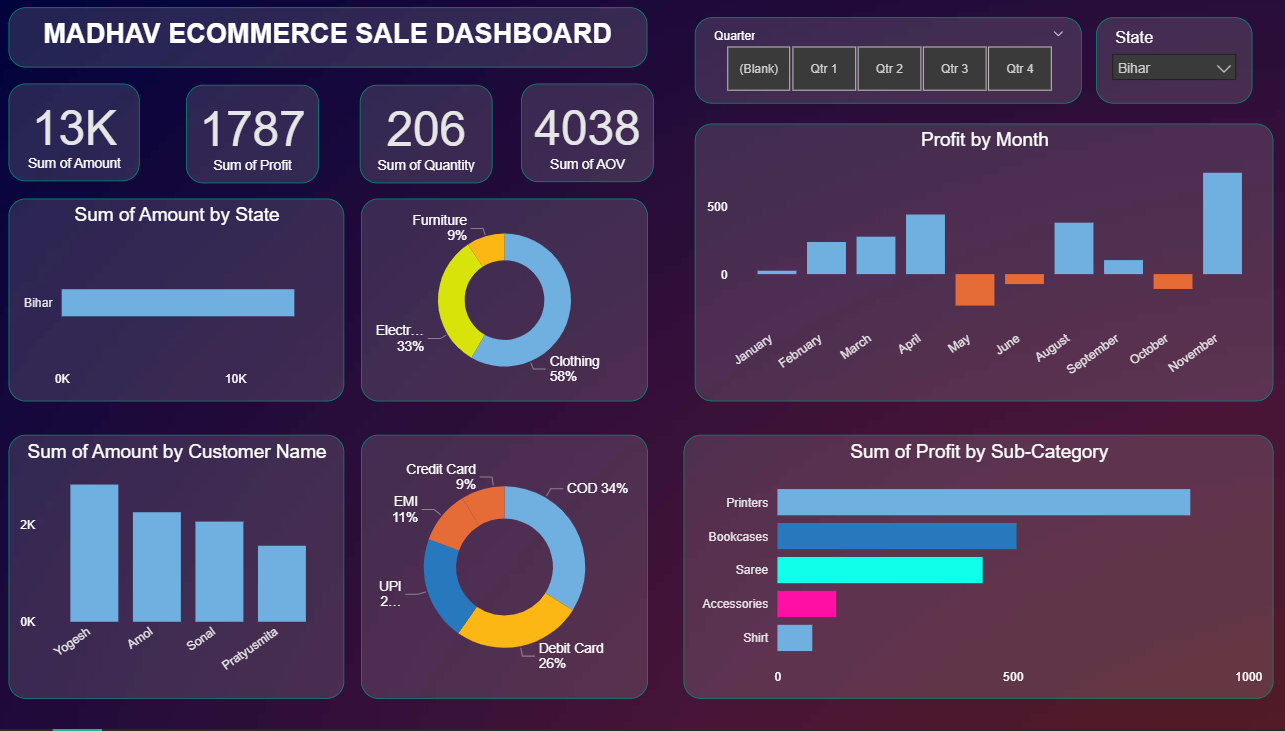

The dashboard page shown, as its layout file describes it:
{"tool":"powerbi","page":{"name":"Page 1","canvas":[1280,720],"ordinal":0},"visuals":[{"type":"textbox","box":[12.3,11,627.1,59],"z":0},{"type":"columnChart","title":"Profit by Month","fields":{"Y":["Details.Profit"],"Category":["Orders.Order Date.Variation.Date Hierarchy.Month"]},"box":[686.1,124.9,568.1,273.1],"z":1000},{"type":"barChart","fields":{"Category":["Details.Sub-Category"],"Y":["Details.Profit"]},"box":[675.1,430.9,579.1,259.3],"z":2000},{"type":"donutChart","fields":{"Category":["Details.Category"],"Y":["Details.Quantity"]},"box":[358.1,199,281.3,199],"z":3000},{"type":"donutChart","fields":{"Y":["Details.Quantity"],"Category":["Details.PaymentMode"]},"box":[358.1,430.9,281.3,259.3],"z":4000},{"type":"card","fields":{"Values":["Details.Amount"]},"box":[12.3,86.4,129,96.1],"z":5000},{"type":"card","fields":{"Values":["Details.Profit"]},"box":[186.5,87.1,130.1,96.9],"z":6000},{"type":"card","fields":{"Values":["Details.Quantity"]},"box":[357.1,87.1,130.1,96.9],"z":7000},{"type":"card","fields":{"Values":["Details.AOV"]},"box":[515.3,85.9,130.1,96.9],"z":8000},{"type":"barChart","fields":{"Category":["Orders.State"],"Y":["Details.Amount"]},"box":[12.3,199,329.3,199],"z":9000},{"type":"columnChart","fields":{"Category":["Orders.Customer Name"],"Y":["Details.Amount"]},"box":[12.3,430.9,329.3,259.3],"z":10000},{"type":"slicer","fields":{"Values":["Orders.Order Date.Variation.Date Hierarchy.Quarter"]},"box":[686.1,20.6,380.1,85.1],"z":10001},{"type":"slicer","fields":{"Values":["Orders.State"]},"box":[1079.9,20.6,153.7,85.1],"z":10002}]}

Visuals, with their boxes in screenshot pixels (x1, y1, x2, y2), scaled from the page's 1280x720 canvas onto the 1285x731 screenshot:
textbox: box=[12, 11, 642, 71]
"Profit by Month" columnChart: box=[689, 127, 1259, 404]
barChart - Details.Sub-Category x Details.Profit: box=[678, 437, 1259, 701]
donutChart - Details.Category x Details.Quantity: box=[359, 202, 642, 404]
donutChart - Details.Quantity x Details.PaymentMode: box=[359, 437, 642, 701]
card - Details.Amount: box=[12, 88, 142, 185]
card - Details.Profit: box=[187, 88, 318, 187]
card - Details.Quantity: box=[358, 88, 489, 187]
card - Details.AOV: box=[517, 87, 648, 186]
barChart - Orders.State x Details.Amount: box=[12, 202, 343, 404]
columnChart - Orders.Customer Name x Details.Amount: box=[12, 437, 343, 701]
slicer - Orders.Order Date.Variation.Date Hierarchy.Quarter: box=[689, 21, 1070, 107]
slicer - Orders.State: box=[1084, 21, 1238, 107]
